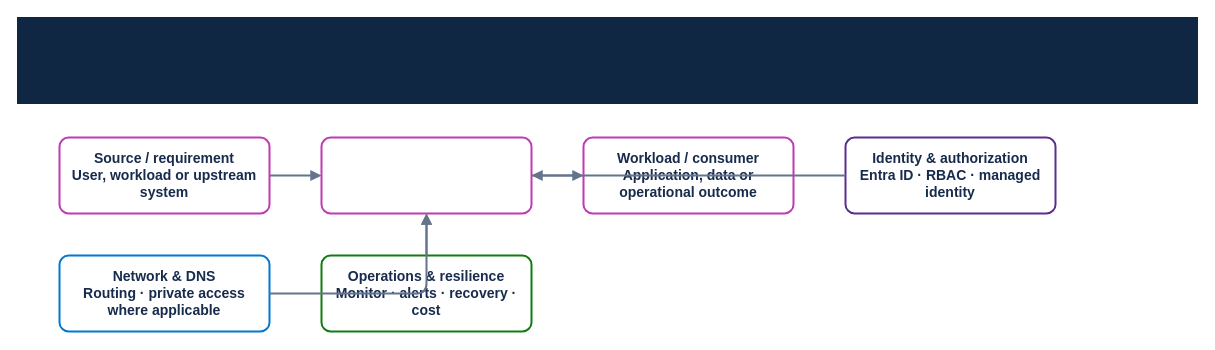
Some shapes in this 1215 by 350 pixel diagram are drawn without their labels. Each missing label, with the centre of its shape:
"Zero Trust Architecture" goes at pixel 607 60.
"Zero Trust Architecture Azure service / architecture control" goes at pixel 426 175.
